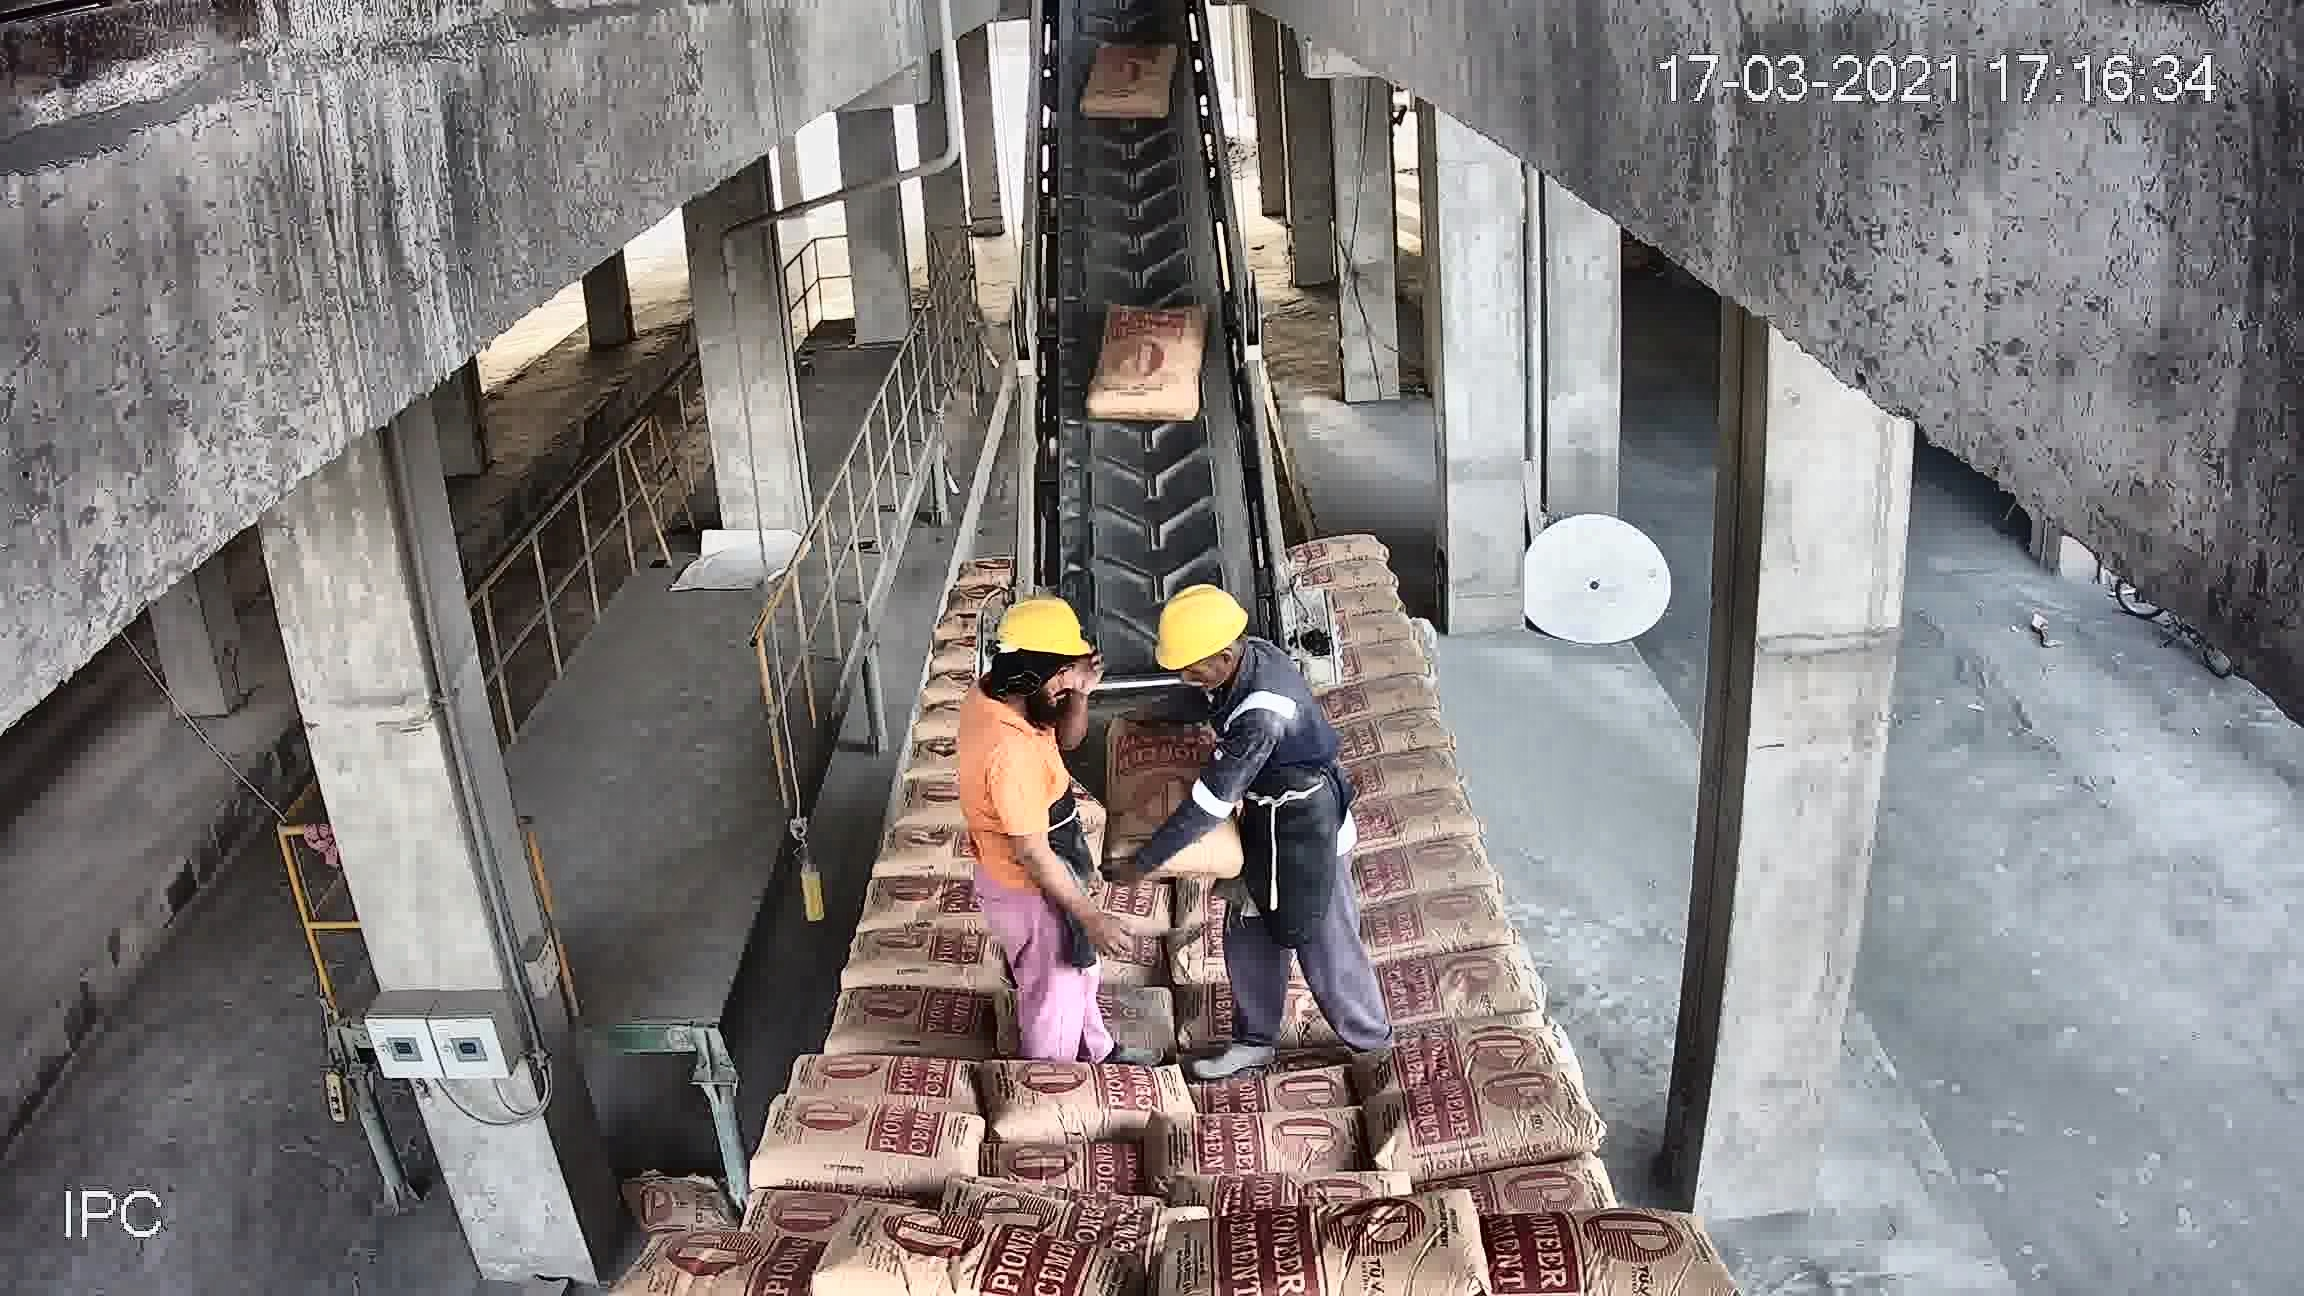bag: (1090, 302, 1211, 418), (1079, 36, 1177, 116)
bag_h: (1196, 1171, 1552, 1294), (791, 1215, 1131, 1296), (1431, 1203, 1698, 1294), (748, 1097, 994, 1195), (1372, 1079, 1582, 1192), (1155, 1101, 1370, 1192), (1362, 1006, 1575, 1092), (976, 1060, 1193, 1131), (1171, 1036, 1356, 1119), (1380, 940, 1544, 1029), (1343, 885, 1518, 965), (638, 1228, 847, 1294), (834, 976, 987, 1059), (1356, 824, 1492, 902), (790, 1055, 983, 1105), (986, 1133, 1139, 1193), (843, 932, 987, 994), (1351, 786, 1475, 851), (1310, 671, 1438, 726), (1332, 707, 1449, 767), (1343, 748, 1468, 804), (869, 823, 976, 878), (859, 872, 973, 923), (1301, 557, 1404, 597), (1287, 533, 1394, 570)
bag_v: (1100, 704, 1249, 888)
belt: (1000, 32, 1283, 750)
